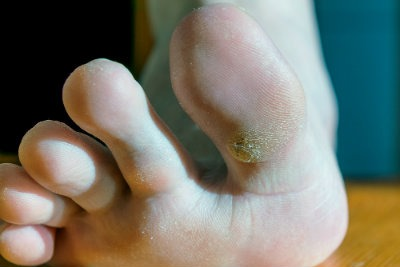Warts: (225, 114, 298, 174)
